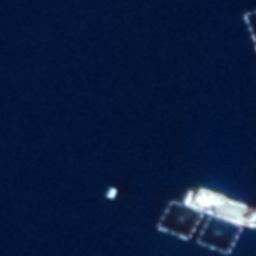square_solid: (154, 197, 211, 247), (193, 210, 247, 256)
